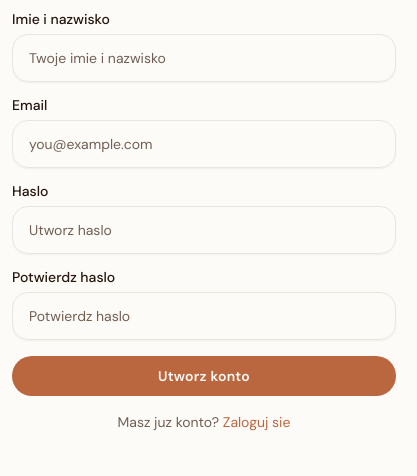
Test case: SignUpForm › validates password length
Type "Jan Kowalski" into the field labelled "Imie i nazwisko". click: (204, 58)
box: [12,34,396,82]
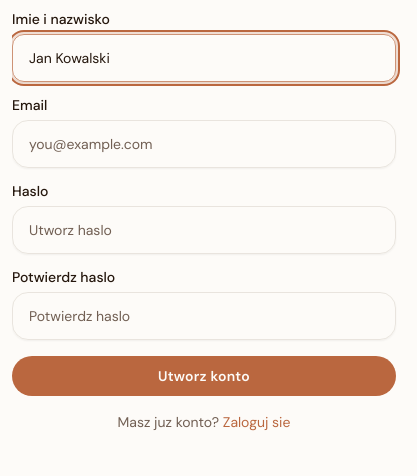
Type "jan@example.com" into the field labelled "Email". click: (204, 144)
box: [12,120,396,168]
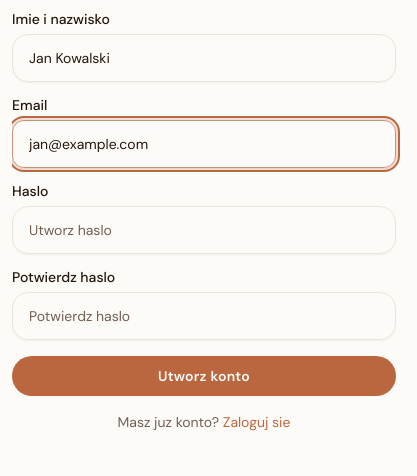
Type "short" into the password field labelled "Haslo". click: (204, 230)
box: [12,206,396,254]
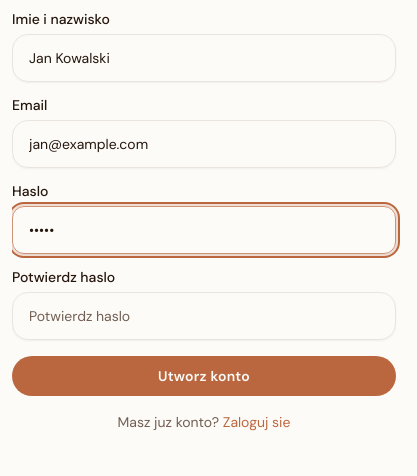
Type "short" into the password field labelled "Potwierdz haslo". click: (204, 316)
box: [12,292,396,340]
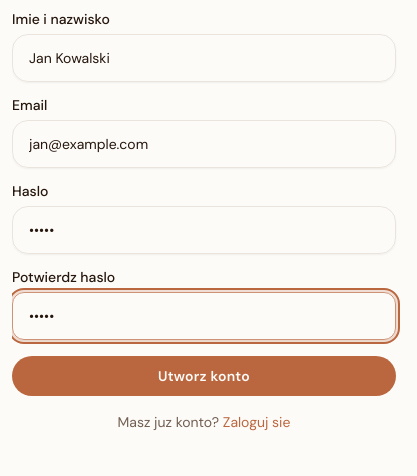
Click the button "Utworz konto". click: (204, 376)
box: [12,356,396,396]
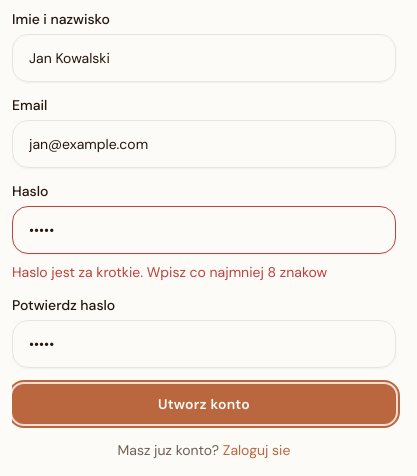
Result: the text "Haslo jest za krotkie. Wpisz co najmniej 8 znakow" is shown at [12,263,327,281]
